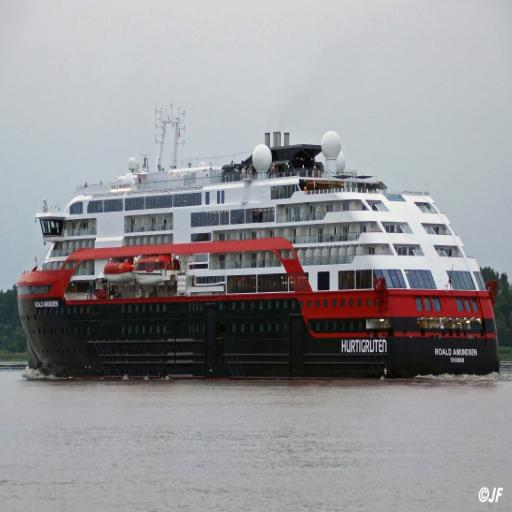cruises: (13, 98, 502, 382)
